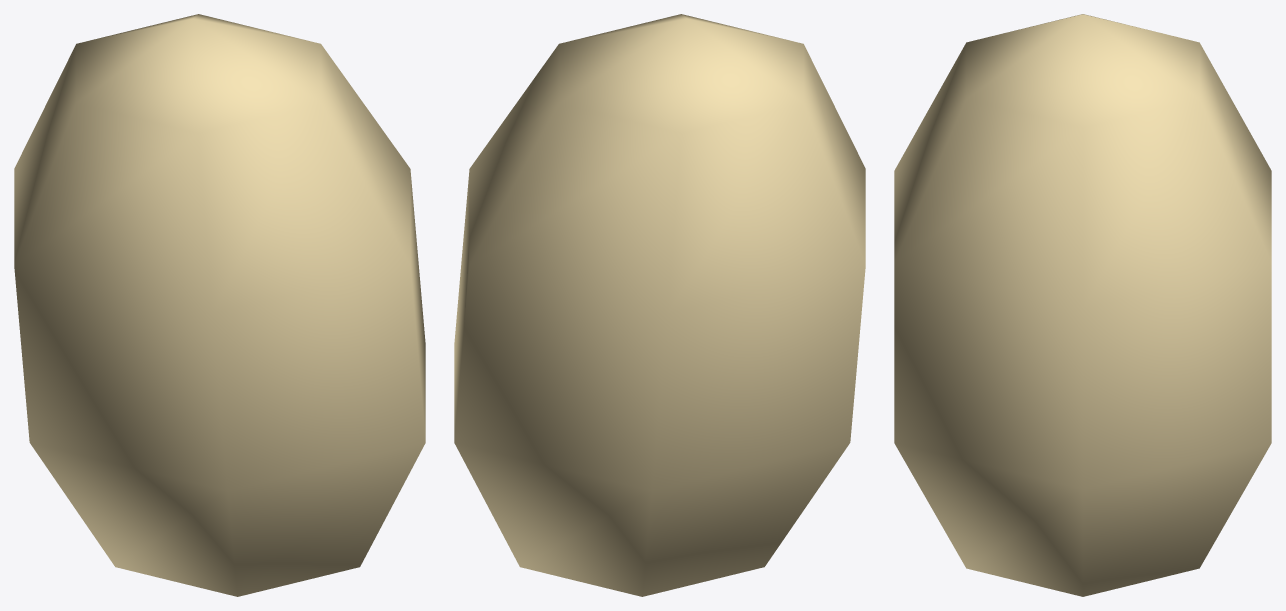
Rendered from Egg_A.fbx.
3 renders of one model, left to right at view 1: azimuth 30°, elevation 25°; view 2: azimuth 150°, elevation 25°; view 3: azimuth 270°, elevation 25°, orthographic. The views are drawn at different scales.
Parts seen in each view (by area): view 1: Egg_A; view 2: Egg_A; view 3: Egg_A.
Boxes of the visible parts, x1,y1,x2,y2 form: Egg_A: (14, 14, 425, 596); Egg_A: (454, 14, 865, 596); Egg_A: (894, 14, 1271, 596).
Size of the model in its own units: 9.86 by 13.39 by 8.21.
